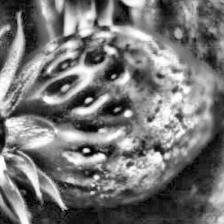Powdery Mildew Fruit: (75, 23, 220, 204)
